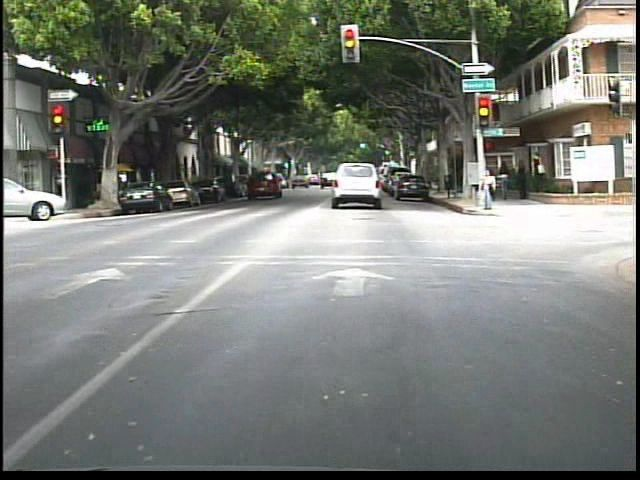person: (476, 166, 499, 214), (515, 160, 532, 204), (498, 159, 515, 202), (529, 152, 547, 192)
